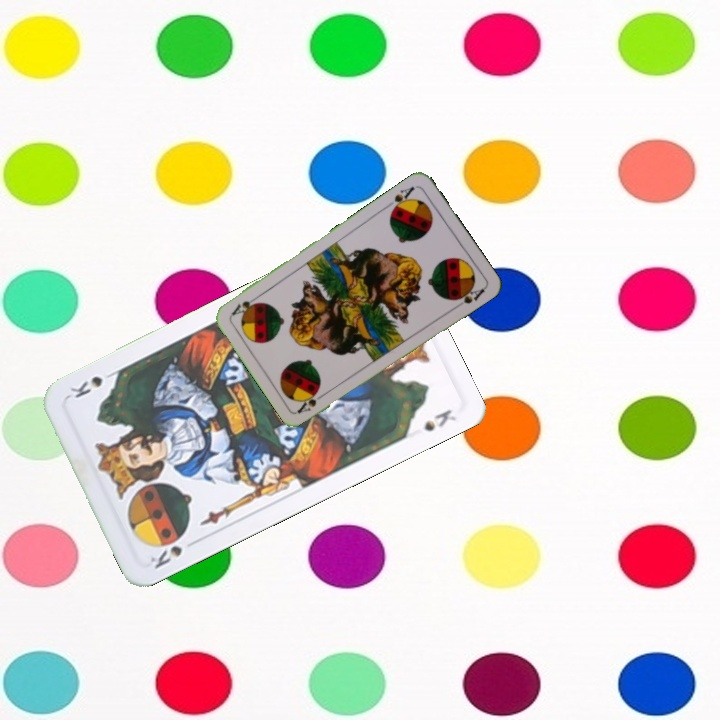SA: (382, 182, 417, 215), (294, 387, 330, 416)
SK: (146, 535, 200, 572)
